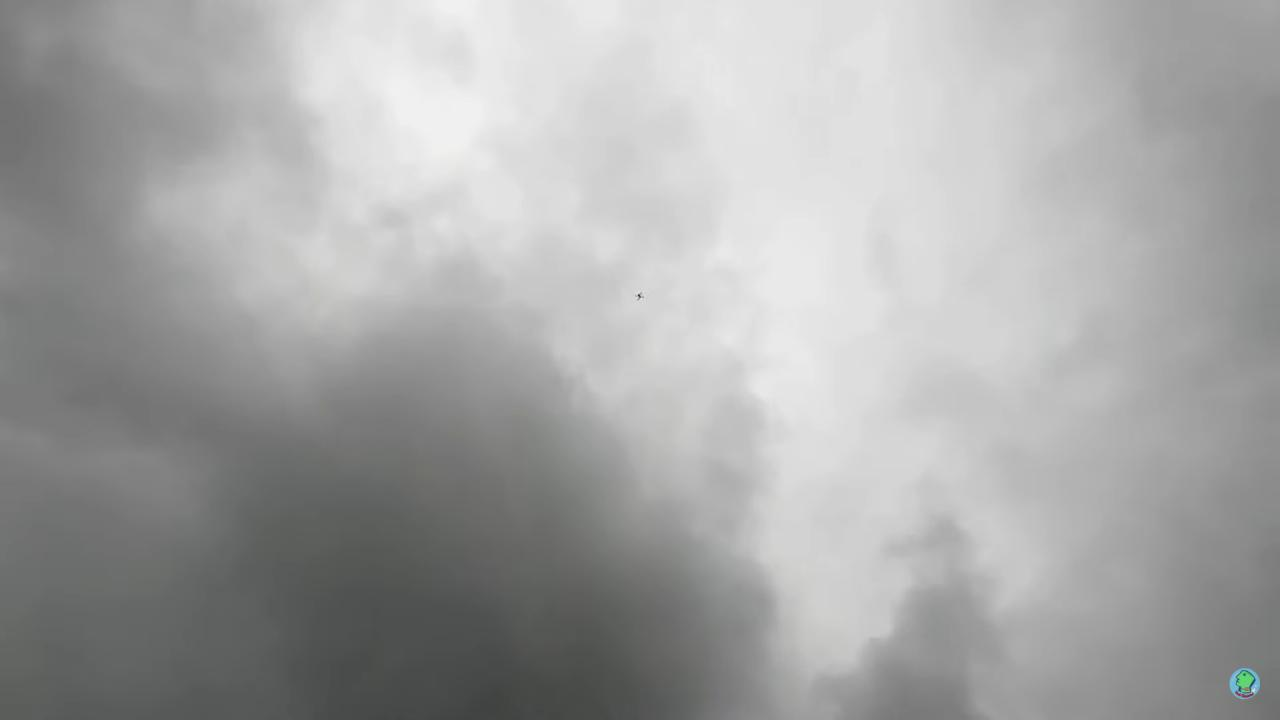Drone: (627, 284, 653, 308)
